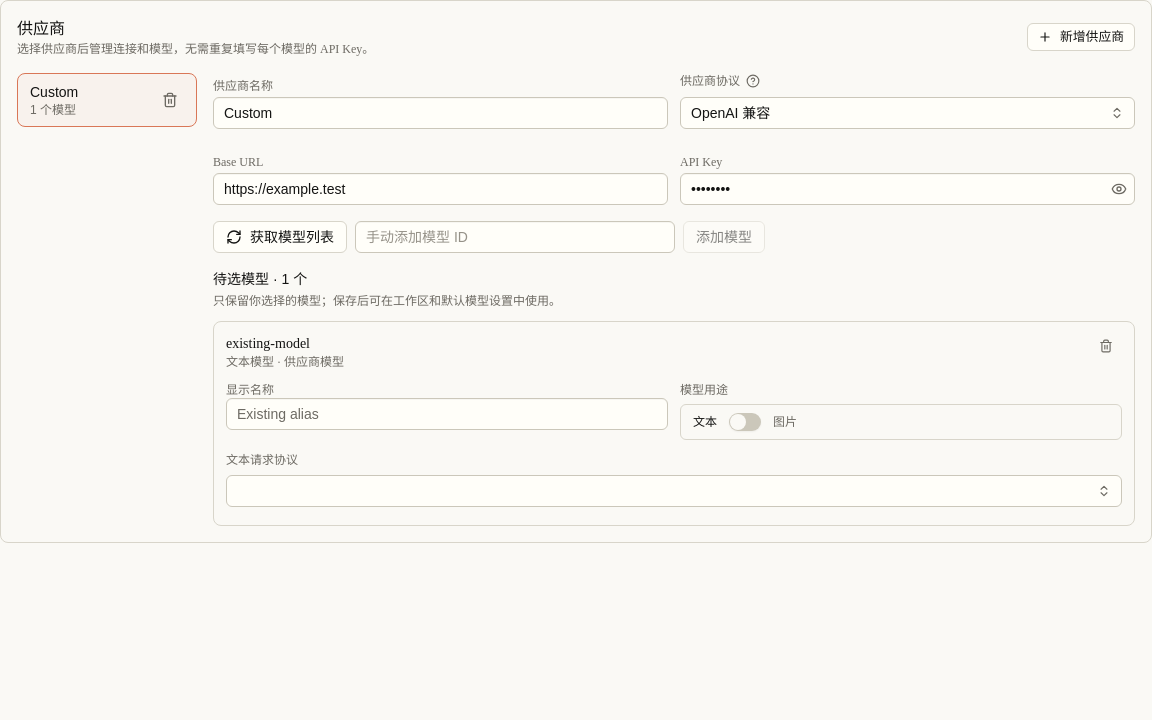
Test: ProviderSettingsPanel model selection › hides a fetched list when provider credentials change
The width and height of the screenshot is (1152, 720).
Click the button "获取模型列表" at point(280, 237), box [213,221,347,253]
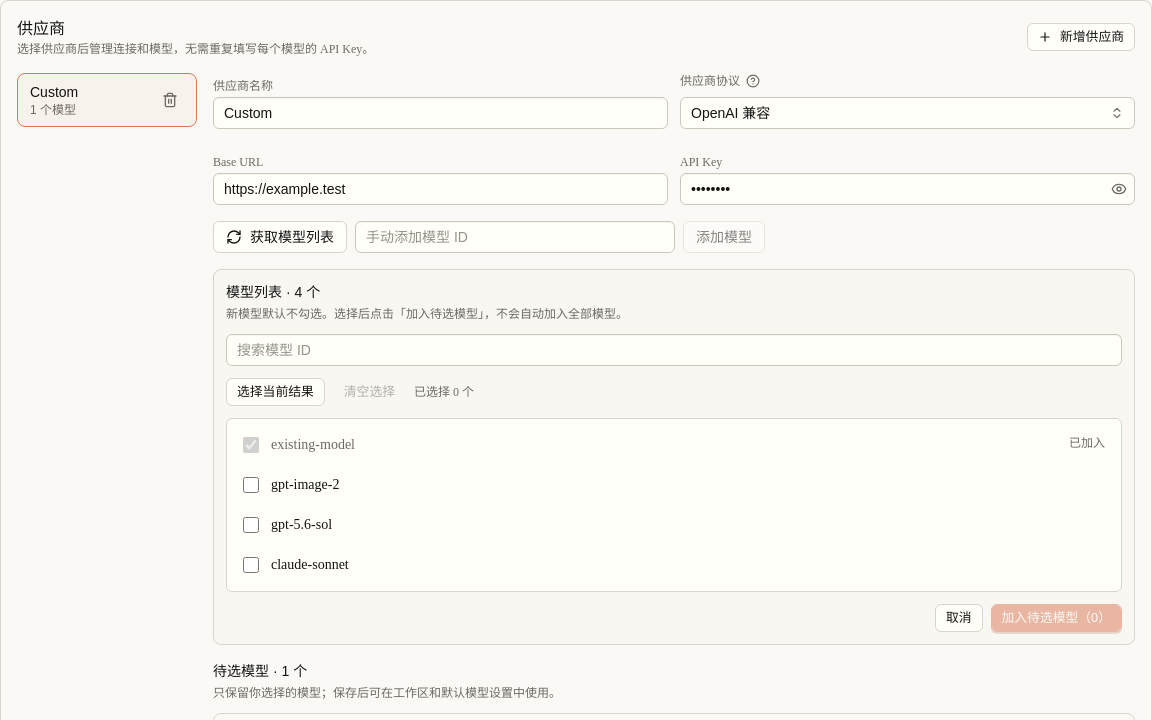
Click the checkbox named "选择模型 gpt-image-2" at point(251, 485), box [243,477,259,493]
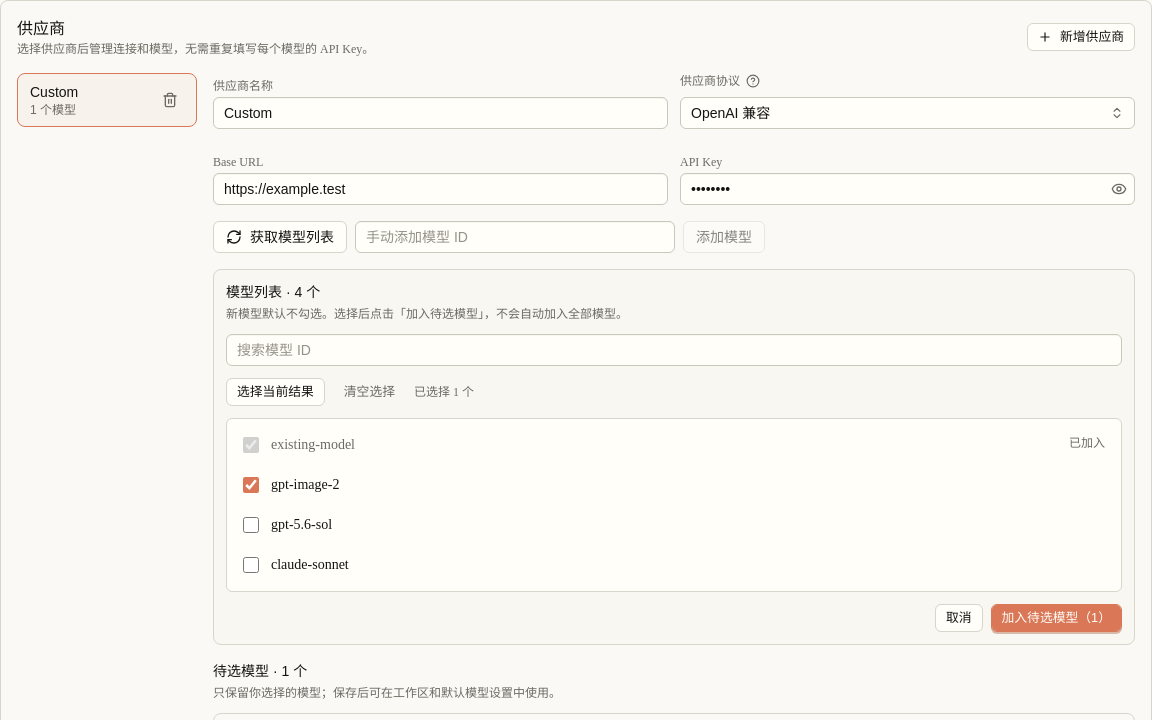
Type "changed-key" into the password field labelled "API Key" at point(908, 189), box [680,173,1135,205]
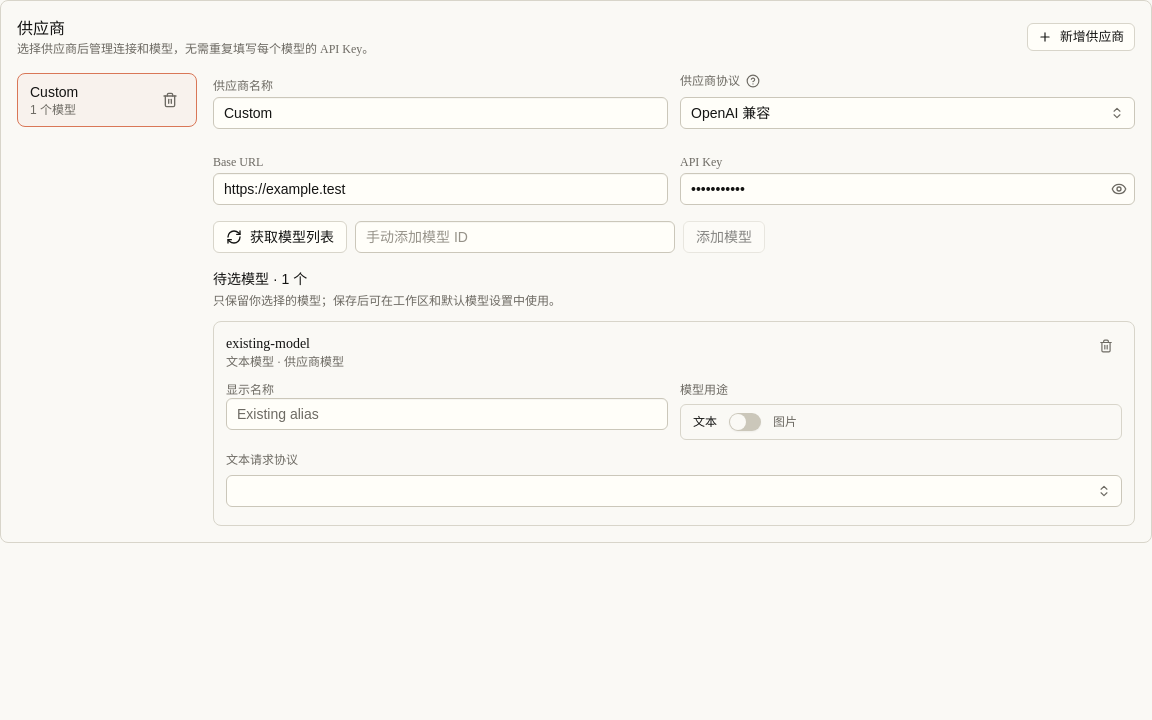
Result: the element "供应商模型列表" is gone
Result: the checkbox labelled "模型 gpt-image-2" is gone
Click the button "获取模型列表" at point(280, 237), box [213,221,347,253]
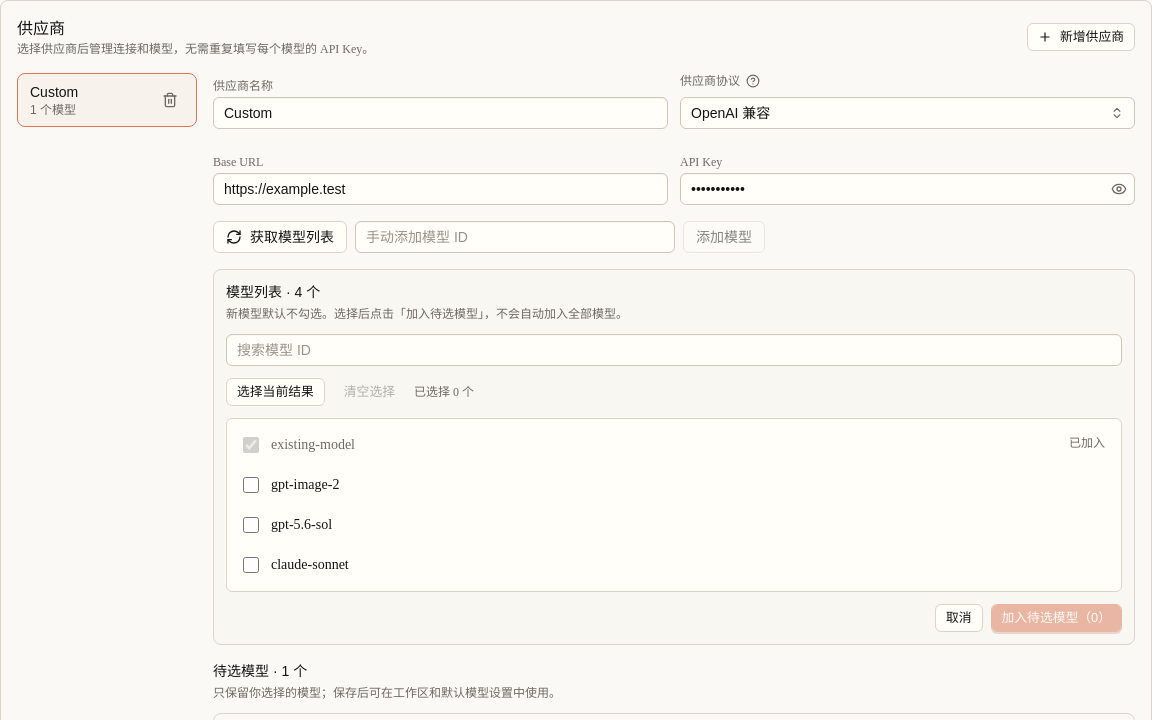
Result: the checkbox named "选择模型 gpt-image-2" is not checked at [243,477,259,493]
